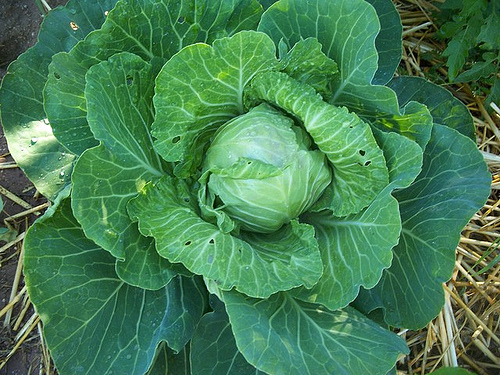cabbage: (192, 102, 335, 233)
